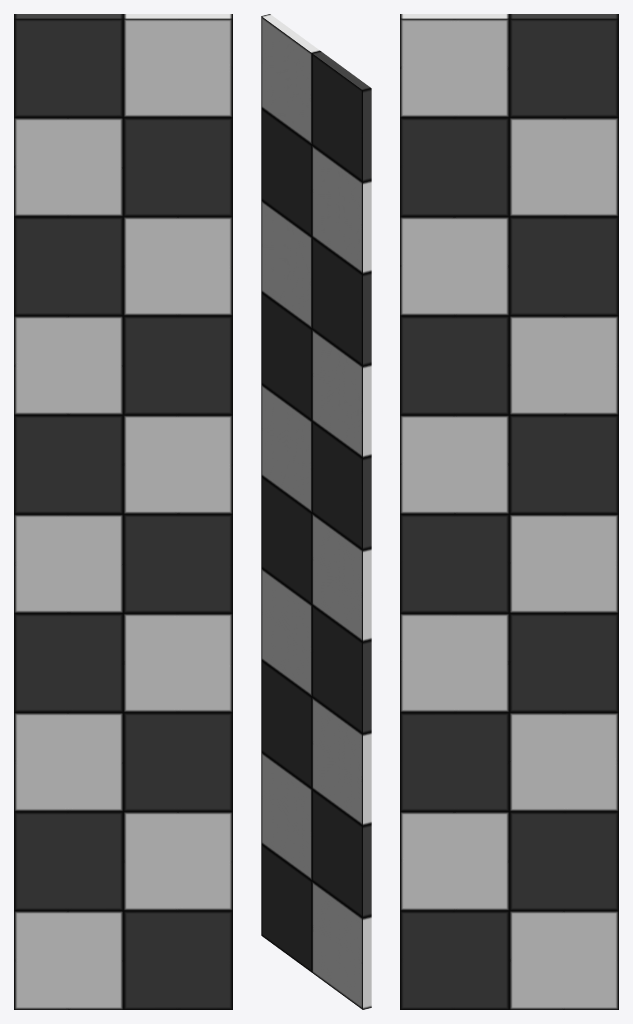
Rendered from SM_Modular_Wall_2x10.fbx.
3 views of the same model, side by side, from view 1: azimuth 90°, elevation 25°; view 2: azimuth 210°, elevation 25°; view 3: azimuth 270°, elevation 25° (orthographic). The views are drawn at different scales.
Parts seen in each view (by area): view 1: Modular_Wall_2x10; view 2: Modular_Wall_2x10; view 3: Modular_Wall_2x10.
Boxes of the visible parts, <box> form: Modular_Wall_2x10: <box>14,14,232,1009</box>; Modular_Wall_2x10: <box>261,14,371,1009</box>; Modular_Wall_2x10: <box>400,14,618,1009</box>.
Bounding box in the file's own units: 10 × 1000 × 200.
